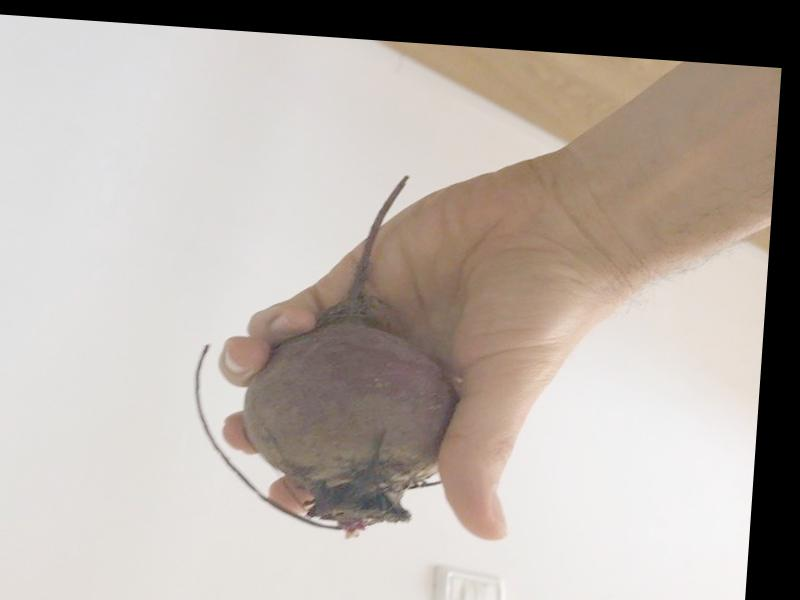Beet: (182, 162, 465, 543)
